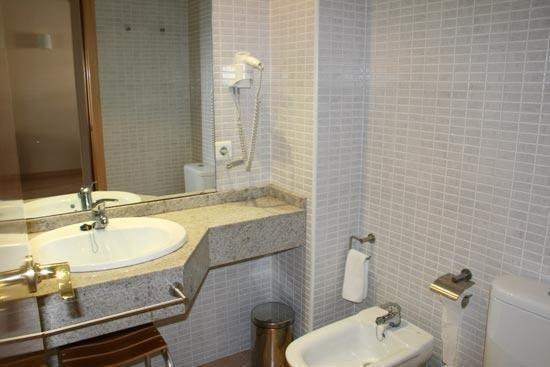Bote de Basura: (249, 294, 299, 366)
Lavamanos: (36, 188, 194, 271), (278, 303, 434, 366)
Sanitario: (477, 261, 549, 365)
